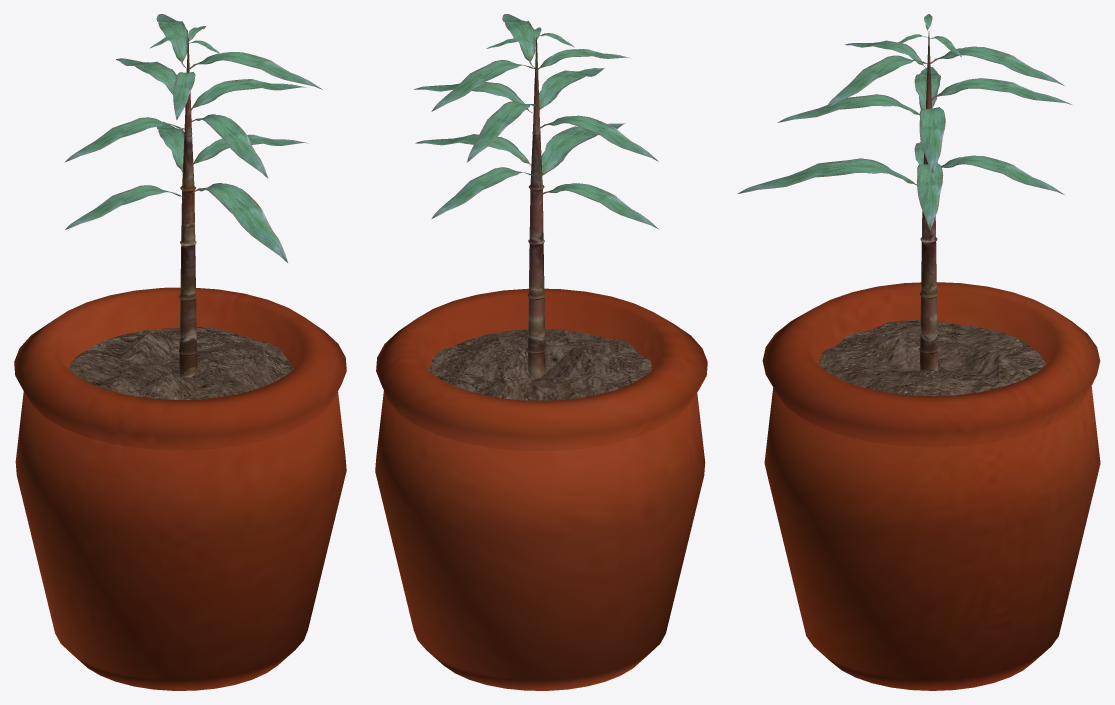
Rendered from Cordyline Fruticosa.fbx.
The picture shows the model from 3 angles, left to right: view 1: azimuth 30°, elevation 25°; view 2: azimuth 150°, elevation 25°; view 3: azimuth 270°, elevation 25°; orthographic projection.
Visible parts, largest first — view 1: Plane.001; view 2: Plane.001; view 3: Plane.001.
Part boxes in pixels (box(x1,y1,x2,y2)): Plane.001: box(14, 14, 346, 690); Plane.001: box(375, 14, 707, 690); Plane.001: box(737, 14, 1100, 690).
Size of the model in its own units: 13.28 by 26.91 by 14.29.
17 materials, 17 textured.
